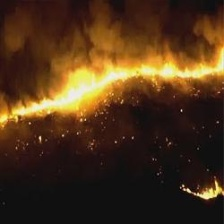fire: (1, 28, 224, 129)
